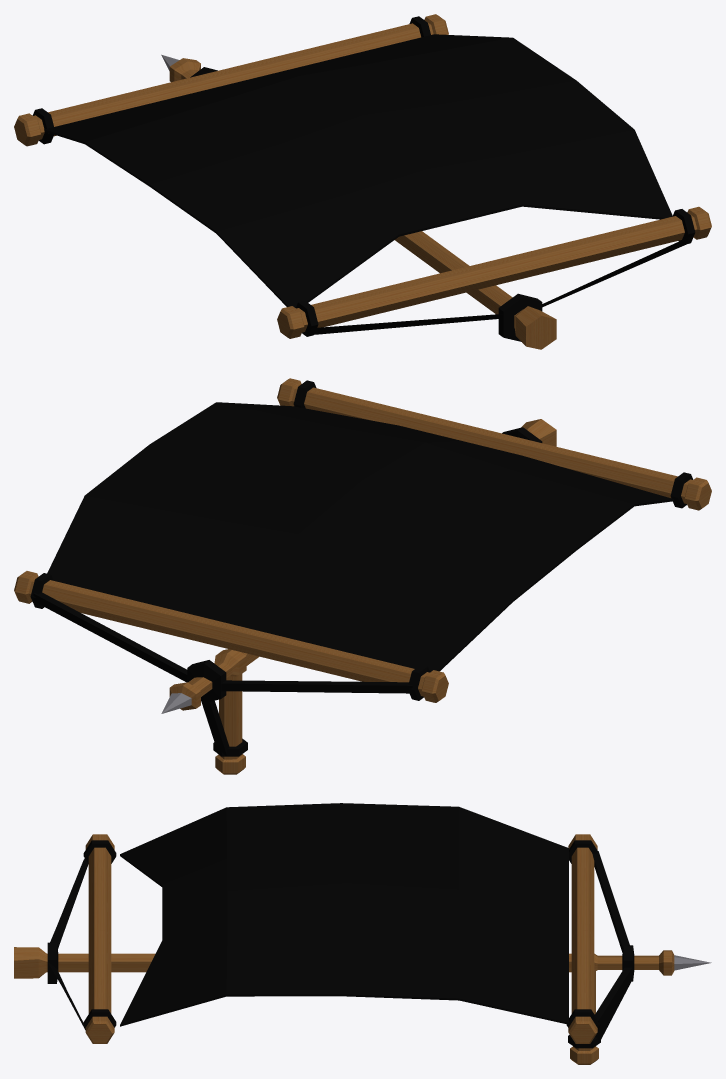
Rendered from sail_c_3.fbx.
The picture shows the model from 3 angles, top to bottom: view 1: azimuth 30°, elevation 25°; view 2: azimuth 150°, elevation 25°; view 3: azimuth 270°, elevation 25°; orthographic projection. The views are drawn at different scales.
Parts seen in each view (by area): view 1: Cube.103; view 2: Cube.103; view 3: Cube.103.
Boxes of the visible parts, <box> form: Cube.103: <box>14,14,711,349</box>; Cube.103: <box>14,378,711,774</box>; Cube.103: <box>14,803,711,1064</box>.
Size of the model in its own units: 140 by 60.39 by 215.
